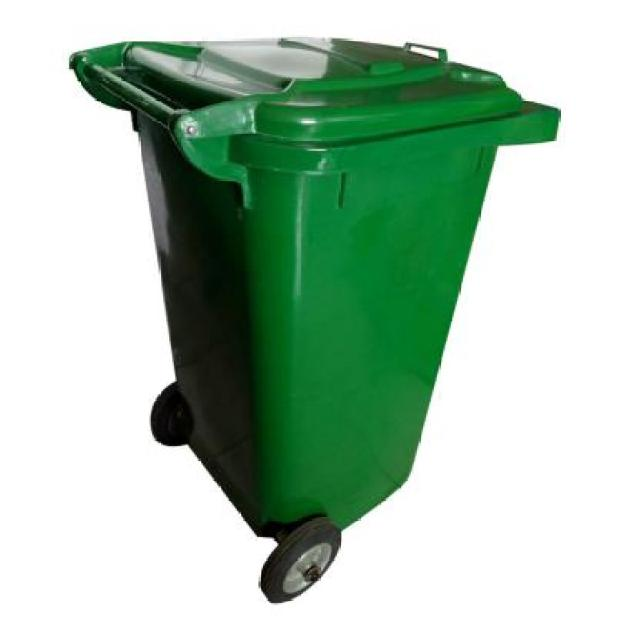garbage container: (58, 24, 574, 608)
